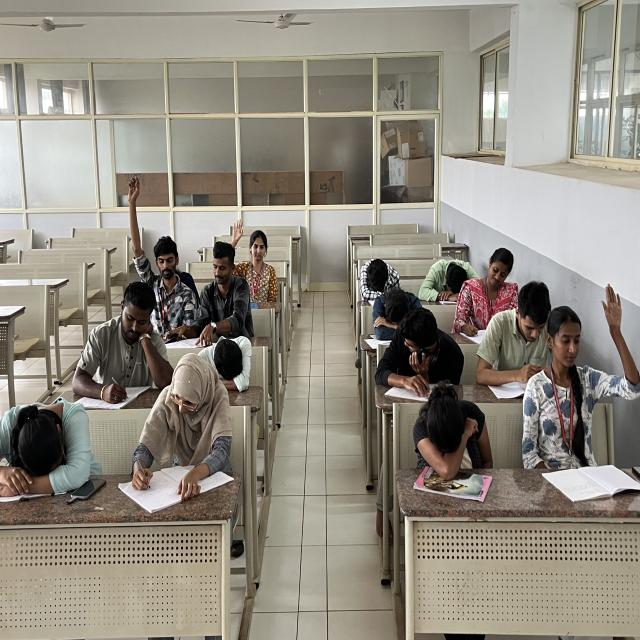Hand Rising: (532, 280, 636, 452), (112, 165, 201, 311), (224, 208, 282, 299)
Sleeping: (1, 386, 105, 510), (404, 384, 510, 498), (416, 244, 485, 301), (198, 328, 258, 388), (350, 250, 410, 300), (369, 294, 432, 334)
Using Phone: (383, 317, 467, 391)
Writing: (127, 358, 235, 514), (65, 286, 173, 402)
